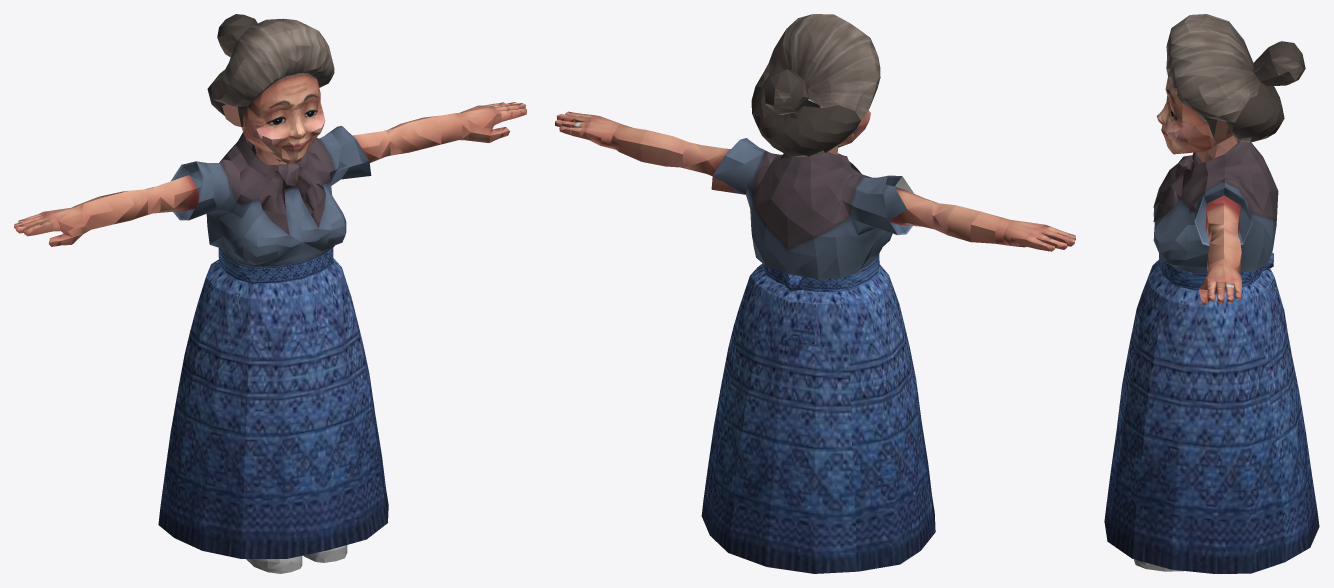
File: Granny4.fbx
The picture shows the model from 3 angles, left to right: view 1: azimuth 30°, elevation 25°; view 2: azimuth 150°, elevation 25°; view 3: azimuth 270°, elevation 25°; orthographic projection.
Visible parts, largest first — view 1: pPlane2; view 2: pPlane2; view 3: pPlane2.
Part boxes in pixels (left/top/right/bottom): pPlane2: left=14, top=14, right=526, bottom=573; pPlane2: left=555, top=14, right=1075, bottom=573; pPlane2: left=1104, top=14, right=1319, bottom=573.
Size of the model in its own units: 149 by 145 by 53.2.
8 materials, 7 textured.
